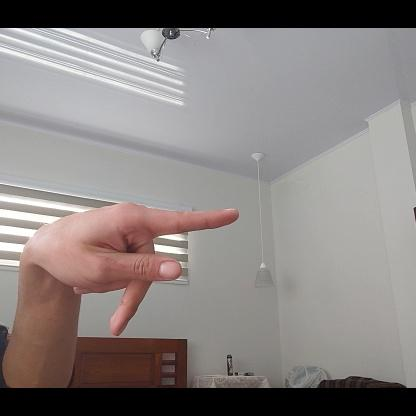P: (26, 199, 239, 339)
